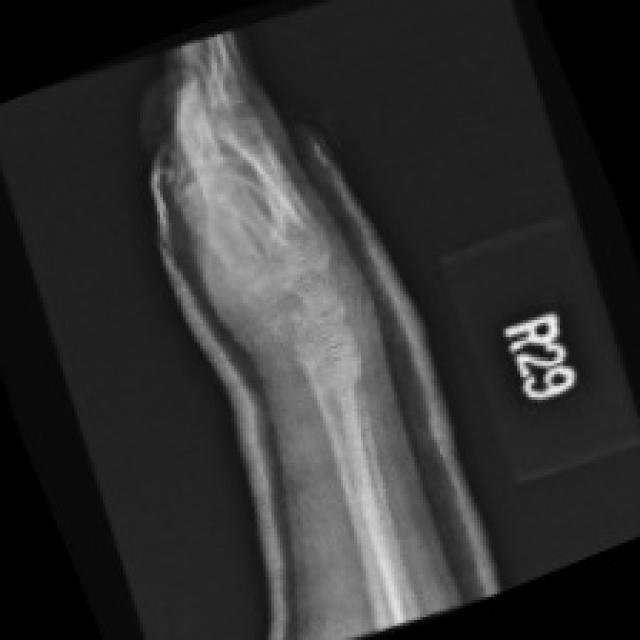fracture: (239, 207, 371, 428)
